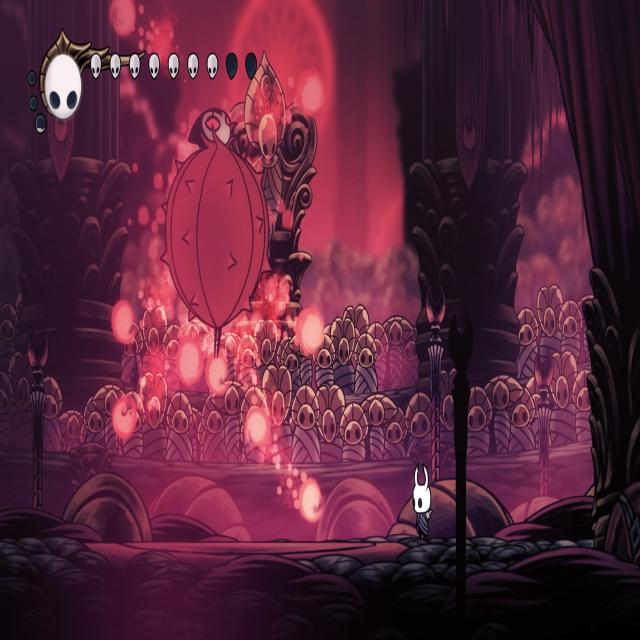Player: (411, 460, 436, 545)
Pufferfish: (157, 105, 274, 368)
Tiny Fireballs: (298, 70, 327, 120), (295, 308, 323, 356), (176, 339, 202, 388), (113, 396, 138, 440), (244, 407, 270, 448), (112, 300, 136, 344), (110, 0, 138, 37), (300, 478, 323, 522), (206, 356, 228, 396)
